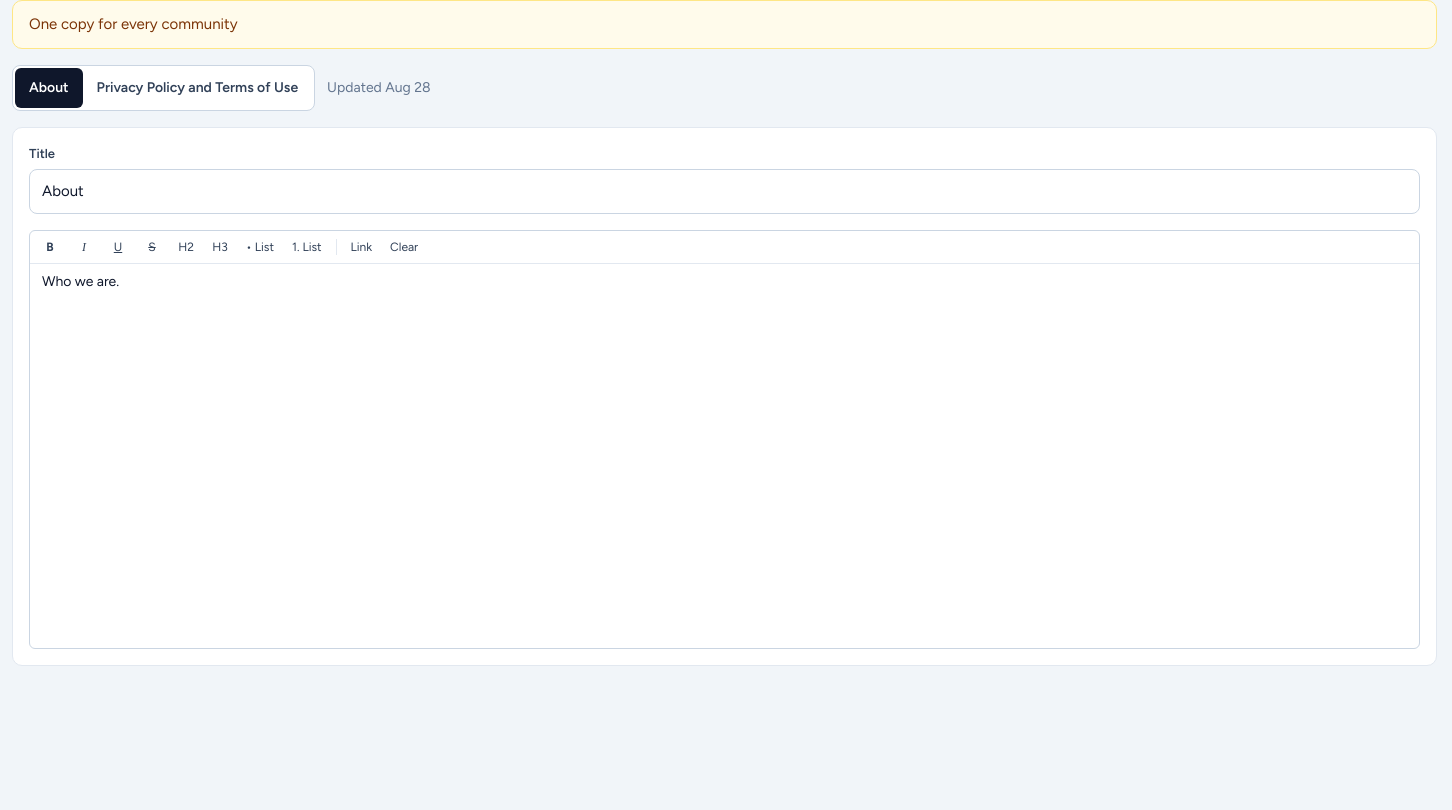
Test: About and Privacy › says there is one copy, switches between the pages, and says when each was updated
The image size is (1452, 810).
Expected: the text "One copy for every community" is shown, [12,0,1437,48]
Expected: the text "Updated Aug 28" is shown, [327,78,431,98]
Click the button "Privacy Policy and Terms of Use".
click(197, 88)  # box [83,68,312,108]
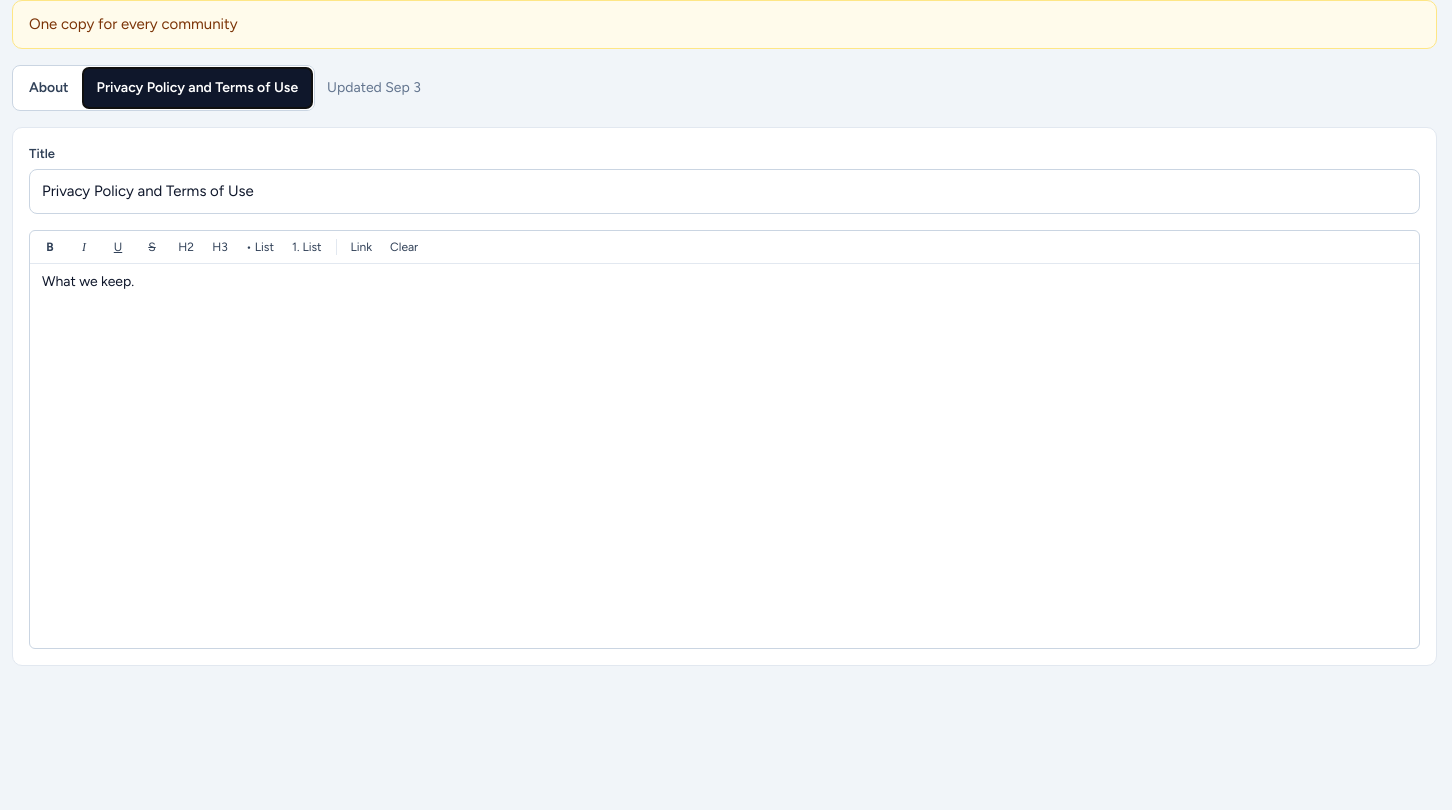
Expected: the field labelled "Title" holds "Privacy Policy and Terms of Use", [29,169,1420,214]
Expected: the text "Updated Sep 3" is shown, [327,78,421,98]
